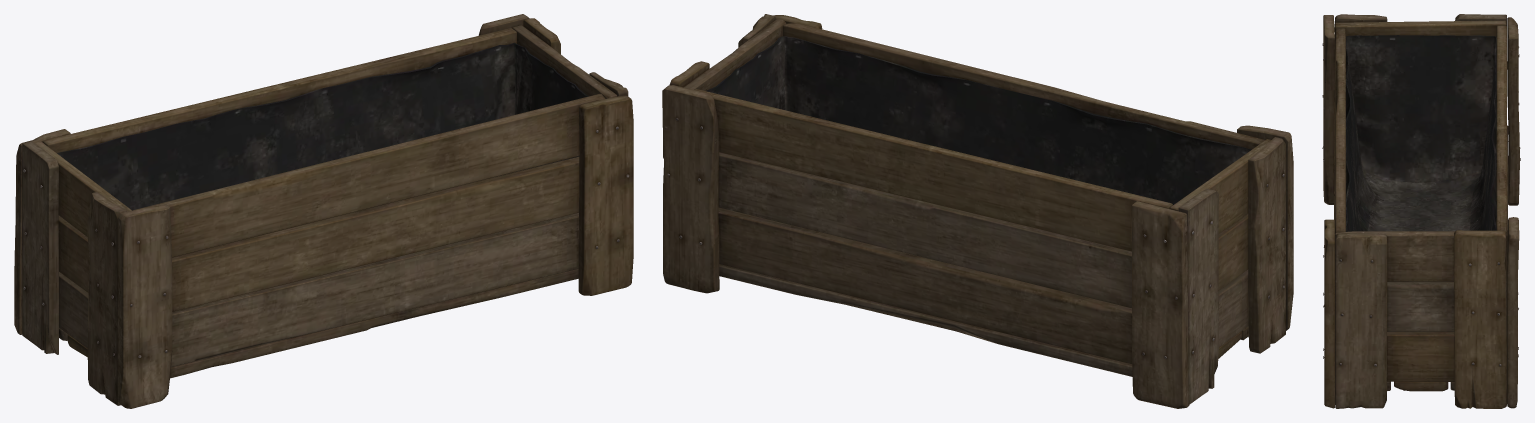
The model's file is planter_2.glb.
3 renders of one model, left to right at view 1: azimuth 30°, elevation 25°; view 2: azimuth 150°, elevation 25°; view 3: azimuth 270°, elevation 25°, orthographic. The views are drawn at different scales.
Visible parts, largest first — view 1: planter_2_m_0; view 2: planter_2_m_0; view 3: planter_2_m_0.
Boxes of the visible parts, box(x1,y1,x2,y2) form: planter_2_m_0: box(14, 14, 633, 408); planter_2_m_0: box(662, 14, 1293, 408); planter_2_m_0: box(1322, 14, 1520, 408).
Bounding box in the file's own units: 1.25 × 0.4534 × 0.4673.
Materials: 1 (1 with a texture image).
